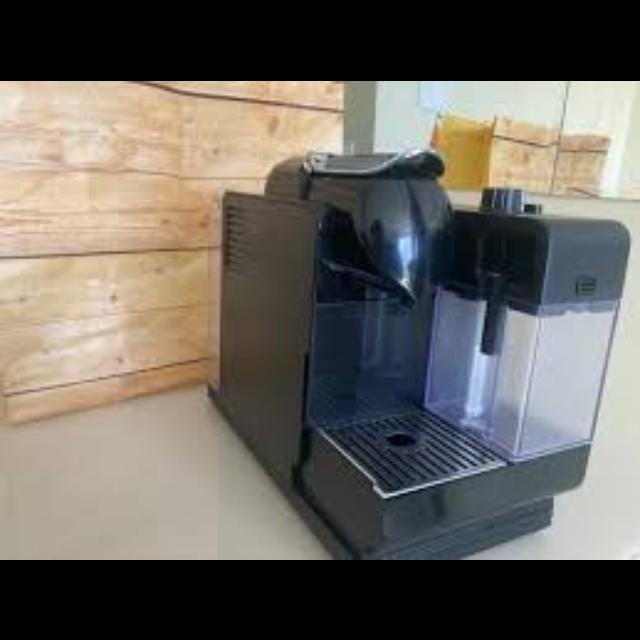Coffee-Machine: (210, 145, 634, 559)
